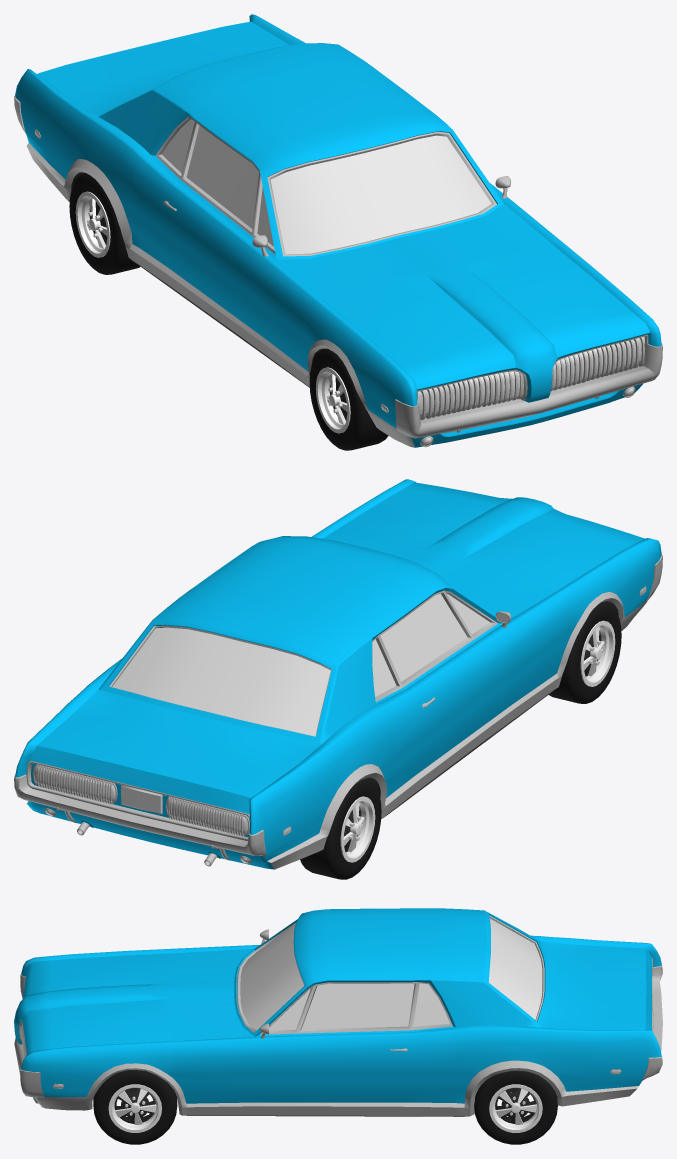
The model's file is LowPoly_Muscle_Cougar_xr1969 (1).fbx.
3 renders of one model, top to bottom at view 1: azimuth 30°, elevation 25°; view 2: azimuth 150°, elevation 25°; view 3: azimuth 270°, elevation 25°, orthographic. The views are drawn at different scales.
Visible parts, largest first — view 1: Body, W2, W4; view 2: Body, W4, W2; view 3: Body, W1, W3.
Part boxes in pixels (box(x1,y1,x2,y2)): Body: box(14, 14, 662, 447); W2: box(309, 348, 388, 450); W4: box(69, 173, 140, 274); Body: box(14, 479, 662, 869); W4: box(300, 778, 381, 879); W2: box(549, 601, 621, 703); Body: box(14, 908, 662, 1116); W1: box(93, 1070, 177, 1144); W3: box(474, 1071, 557, 1144).
Bounding box in the file's own units: 1.25 × 0.8817 × 3.23.
